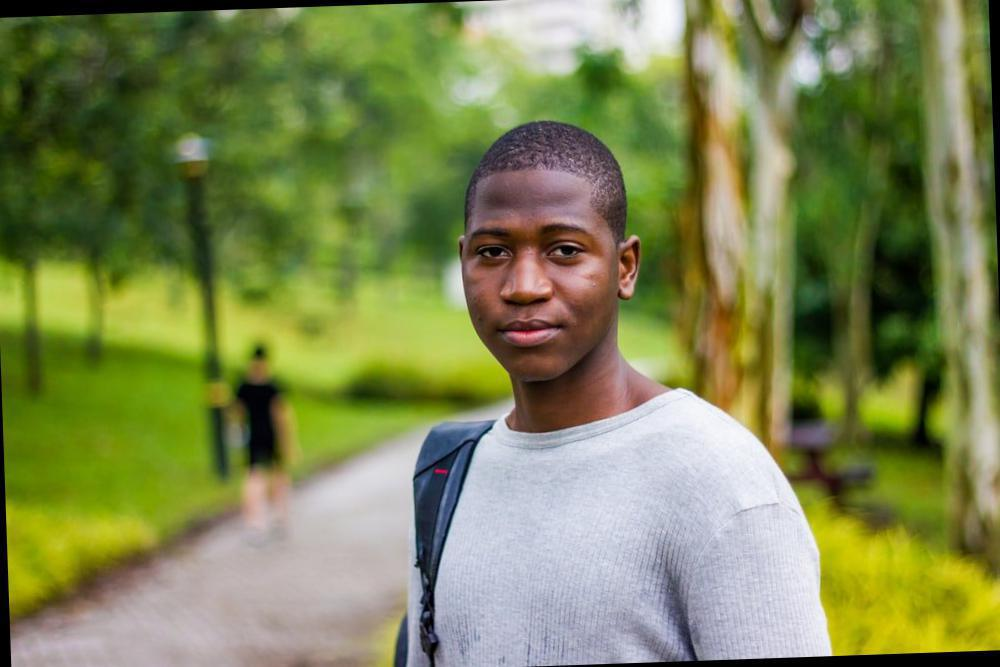Sober: (471, 172, 614, 375)
